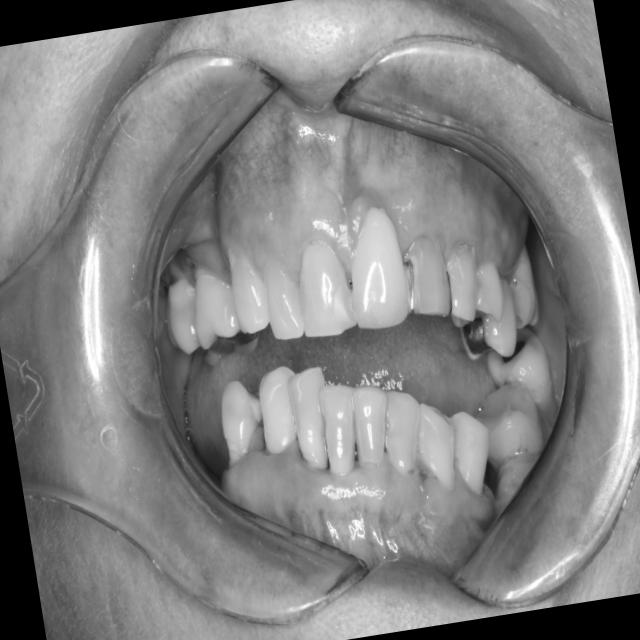tooth: (334, 194, 420, 335), (286, 223, 366, 353), (447, 257, 526, 372), (476, 318, 561, 422), (462, 378, 551, 475), (309, 369, 372, 488), (281, 354, 341, 478), (250, 350, 313, 466), (392, 222, 458, 329), (209, 366, 275, 473), (431, 226, 492, 337), (408, 387, 466, 500), (151, 250, 209, 362), (182, 253, 246, 354), (442, 401, 502, 504), (342, 373, 401, 476), (375, 380, 433, 482), (255, 247, 312, 348), (223, 237, 275, 342), (498, 234, 548, 336), (465, 248, 510, 326)
